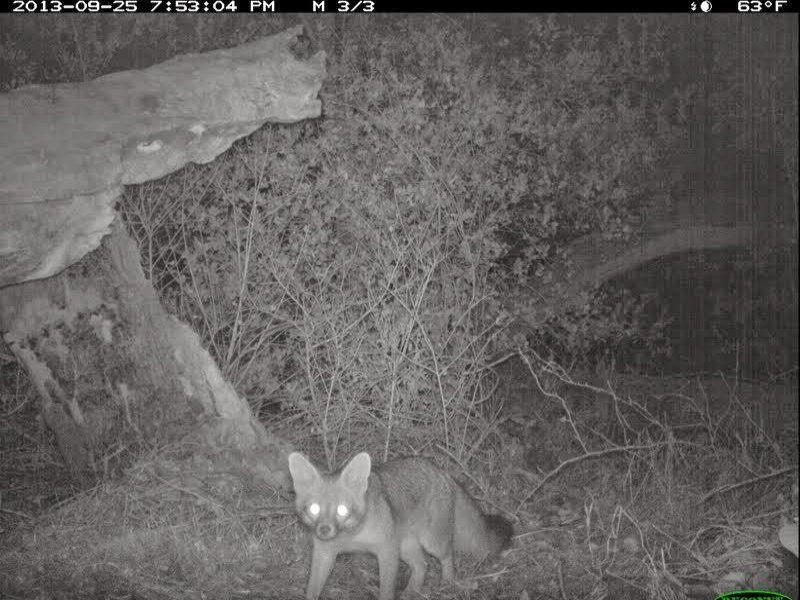fox: (288, 449, 512, 596)
